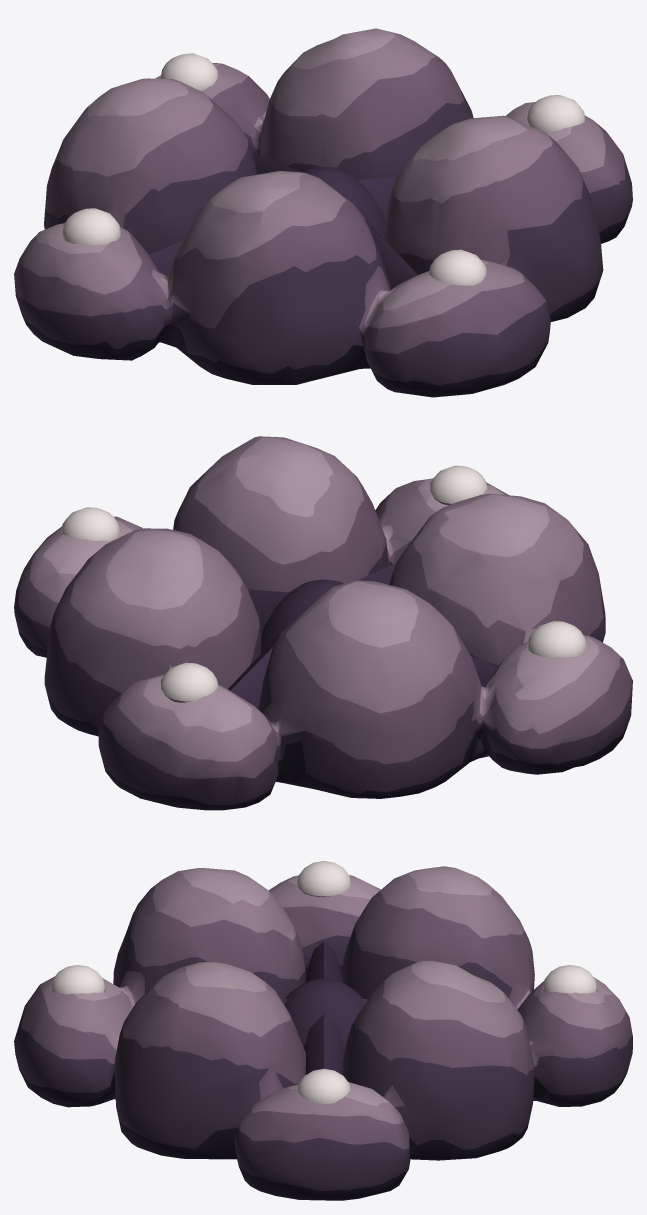
The model's file is botany_stone.glb.
The picture shows the model from 3 angles, top to bottom: view 1: azimuth 30°, elevation 25°; view 2: azimuth 150°, elevation 25°; view 3: azimuth 270°, elevation 25°; orthographic projection. The views are drawn at different scales.
Parts seen in each view (by area): view 1: stone, core, bead1, bead3, bead2, bead0, arm3, arm0, arm2; view 2: stone, core, bead0, bead1, bead2, bead3, arm1, arm0; view 3: stone, core, arm0, bead1, bead3, bead2, bead0, arm2.
Part boxes in pixels (<box>): stone: <box>14,28,632,397</box>; core: <box>301,167,385,236</box>; bead1: <box>62,208,121,245</box>; bead3: <box>527,95,585,132</box>; bead2: <box>429,249,486,285</box>; bead0: <box>160,53,217,90</box>; arm3: <box>364,218,417,289</box>; arm0: <box>358,177,397,220</box>; arm2: <box>149,240,183,276</box>; stone: <box>14,436,632,810</box>; core: <box>261,579,343,652</box>; bead0: <box>160,662,218,702</box>; bead1: <box>527,621,586,657</box>; bead2: <box>430,465,487,504</box>; bead3: <box>61,507,120,540</box>; arm1: <box>228,633,280,708</box>; arm0: <box>248,589,288,633</box>; stone: <box>14,866,632,1200</box>; core: <box>284,979,363,1049</box>; arm0: <box>304,1014,344,1074</box>; bead1: <box>296,861,351,897</box>; bead3: <box>297,1068,350,1104</box>; bead2: <box>50,965,105,994</box>; bead0: <box>542,965,597,993</box>; arm2: <box>305,942,342,982</box>.
Bounding box in the file's own units: 17.89 × 7.6 × 17.99.
